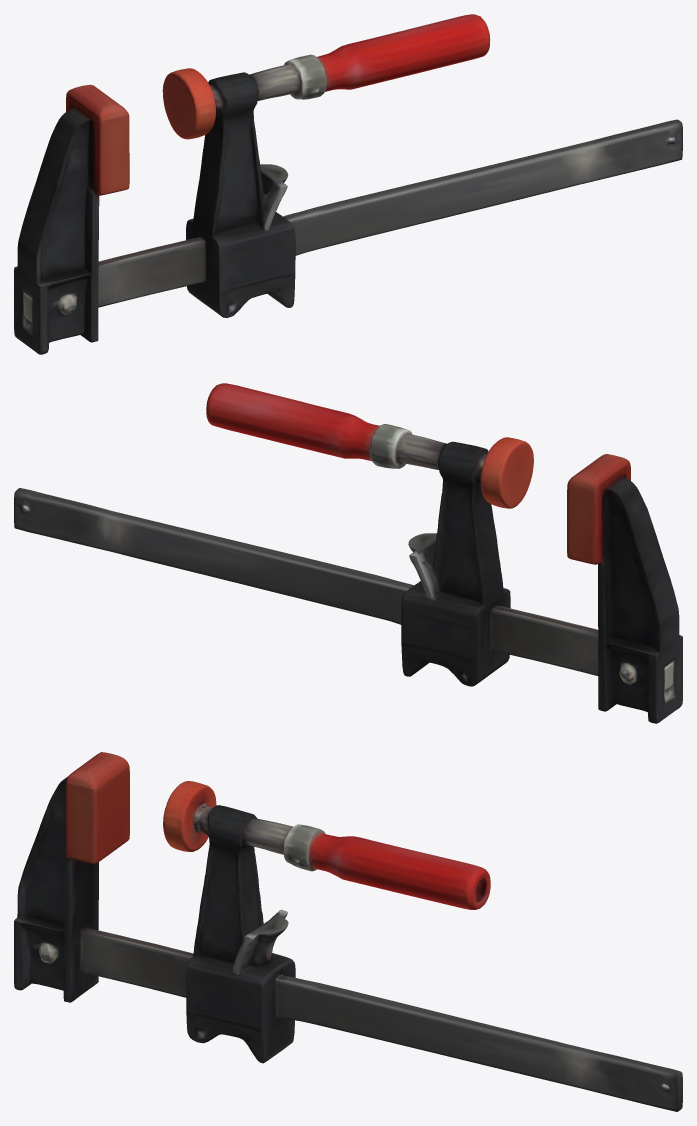
File: hcrg-clamp-01.glb
3 views of the same model, one above another, from view 1: azimuth 30°, elevation 25°; view 2: azimuth 150°, elevation 25°; view 3: azimuth 330°, elevation 25° (orthographic).
Visible parts, largest first — view 1: fixed jaw, bar, sliding jaw, screw handle, swivel pad; view 2: fixed jaw, bar, sliding jaw, screw handle, swivel pad; view 3: bar, fixed jaw, sliding jaw, screw handle, swivel pad.
Part boxes in pixels (x1,y1,x2,y2): fixed jaw: (14, 84, 129, 354); bar: (113, 119, 682, 302); sliding jaw: (186, 72, 295, 317); screw handle: (250, 14, 490, 100); swivel pad: (162, 68, 215, 139); fixed jaw: (567, 454, 682, 723); bar: (14, 488, 584, 671); sliding jaw: (401, 441, 510, 686); screw handle: (206, 383, 446, 469); swivel pad: (480, 437, 533, 508); bar: (111, 934, 682, 1111); fixed jaw: (14, 752, 129, 1002); sliding jaw: (186, 805, 295, 1063); screw handle: (195, 807, 490, 909); swivel pad: (163, 781, 216, 851).
Bounding box in the file's own units: 0.3623 × 0.1304 × 0.0353.
